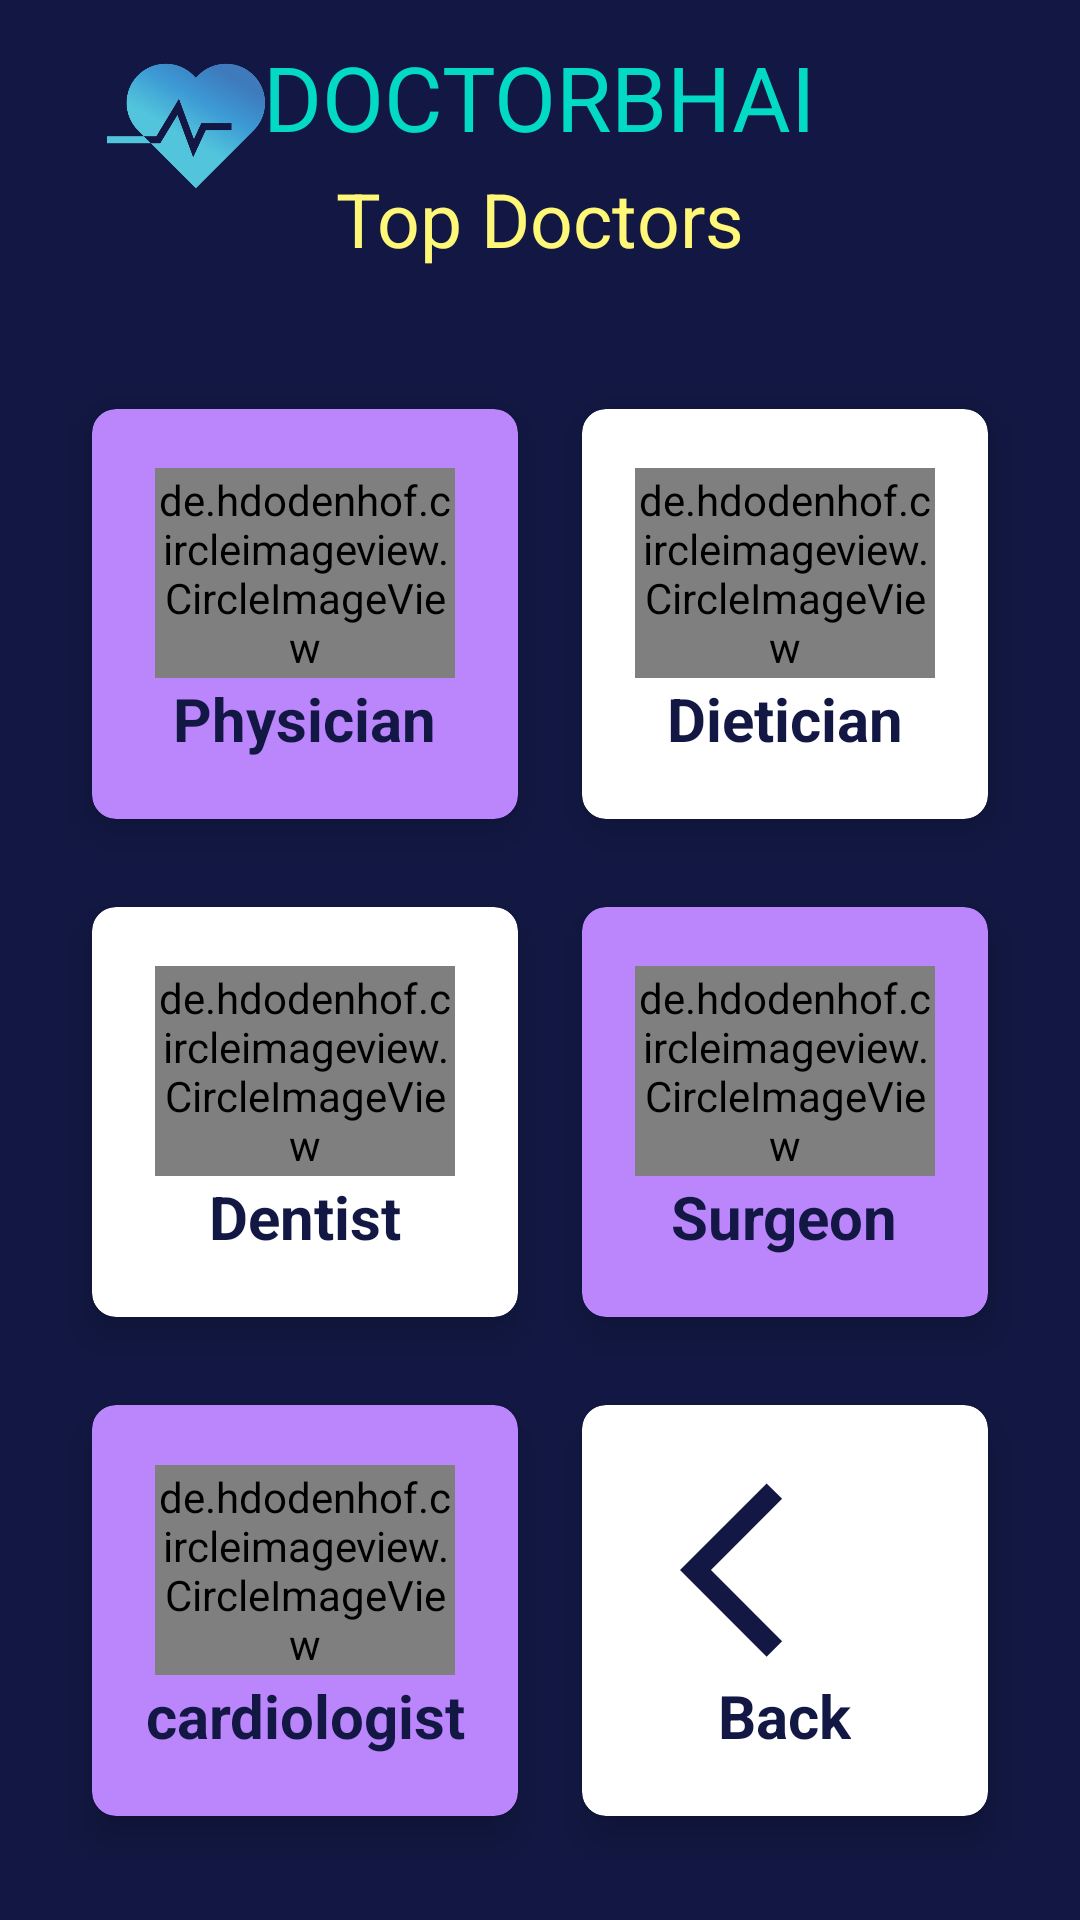

Named icons in this screenshot (1080*1920) and their bounding boxes, (x1, y1, x2, y2):
healthy: (107, 64, 317, 188)
